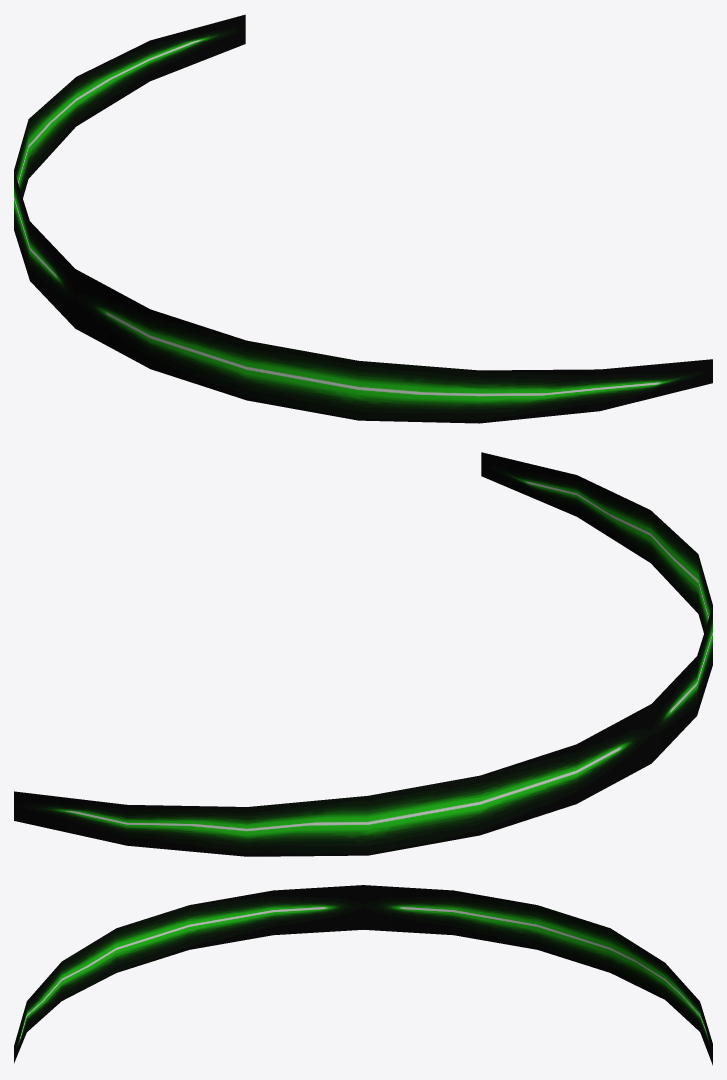
File: xianquan_1.FBX
3 views of the same model, one above another, from view 1: azimuth 30°, elevation 25°; view 2: azimuth 150°, elevation 25°; view 3: azimuth 270°, elevation 25° (orthographic). The views are drawn at different scales.
Parts seen in each view (by area): view 1: Plane002; view 2: Plane002; view 3: Plane002.
Part boxes in pixels (bbox=[...]): Plane002: bbox=[14, 14, 712, 423]; Plane002: bbox=[14, 452, 712, 856]; Plane002: bbox=[14, 885, 712, 1065].
Size of the model in its own units: 35.35 by 5 by 70.79.
Materials: 1 (1 with a texture image).
